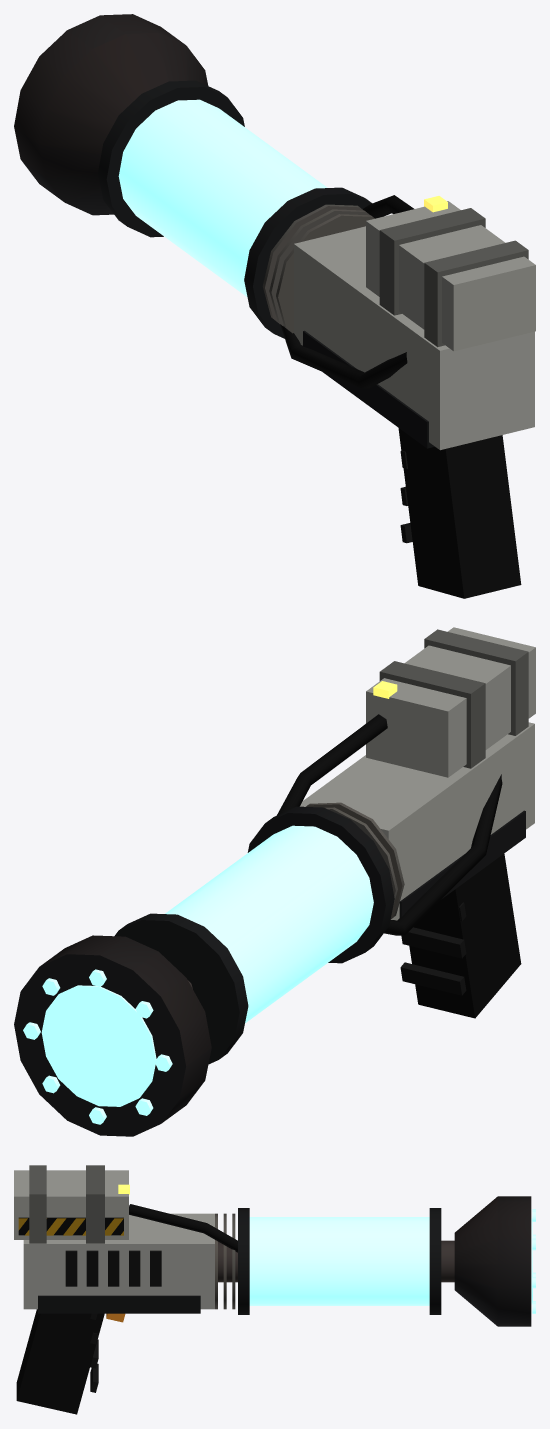
The model's file is magnet_tool.glb.
3 views of the same model, one above another, from view 1: azimuth 30°, elevation 25°; view 2: azimuth 150°, elevation 25°; view 3: azimuth 270°, elevation 25° (orthographic). The views are drawn at different scales.
Visible parts, largest first — view 1: Body, CoilGlow; view 2: Body, CoilGlow; view 3: Body, CoilGlow.
Part boxes in pixels (x1,y1,x2,y2): Body: (14, 14, 535, 598); CoilGlow: (118, 99, 327, 297); Body: (14, 627, 535, 1136); CoilGlow: (41, 825, 373, 1106); Body: (14, 1165, 535, 1414); CoilGlow: (249, 1217, 532, 1305).
Bounding box in the file's own units: 0.136 × 0.2609 × 0.545.
